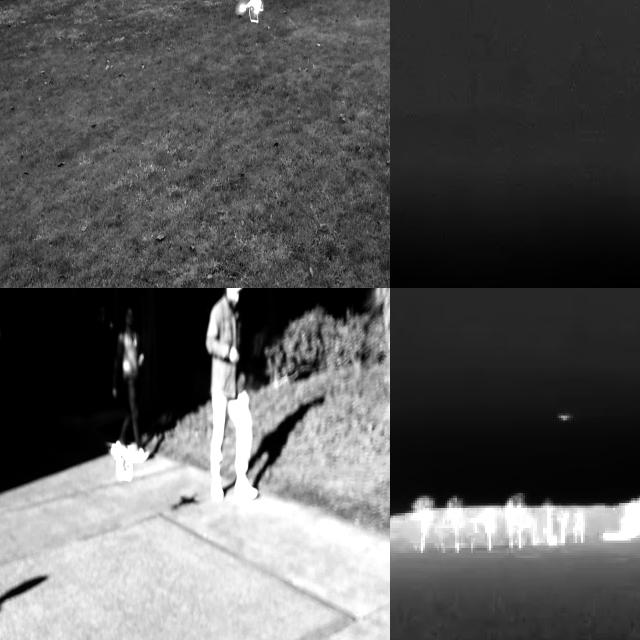0: (551, 406, 575, 430)
drone: (102, 436, 142, 483), (234, 0, 268, 26)
